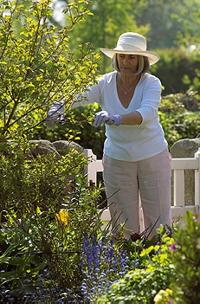person: (47, 33, 176, 248)
